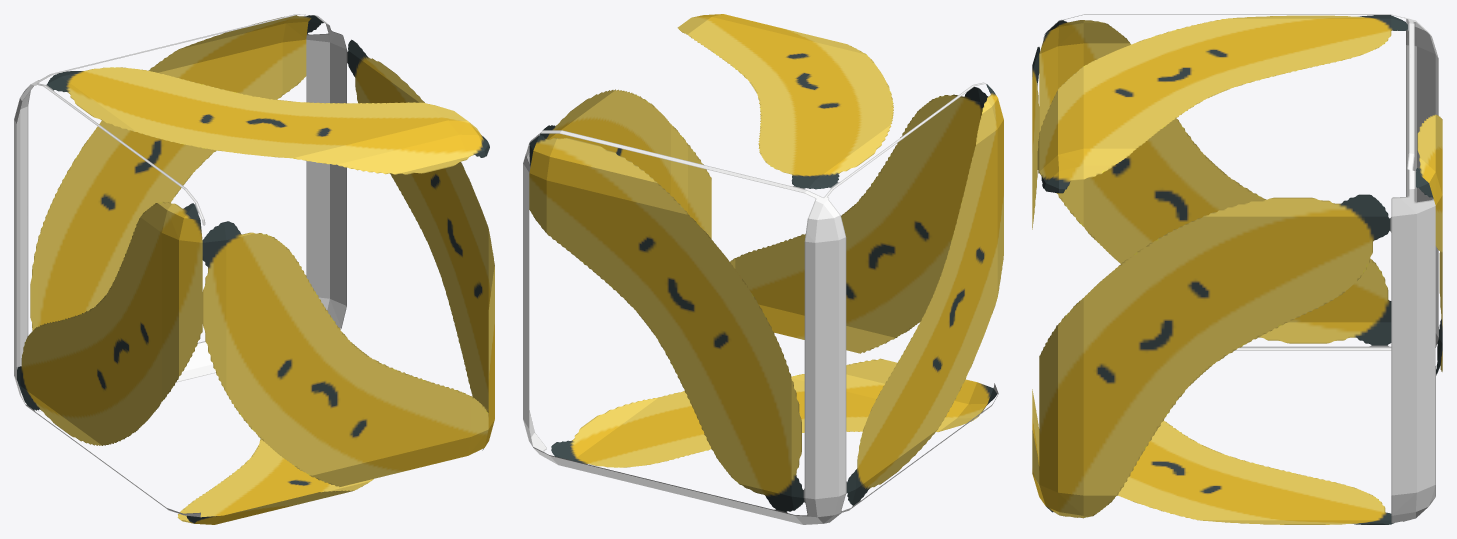
The picture shows the model from 3 angles, left to right: view 1: azimuth 30°, elevation 25°; view 2: azimuth 150°, elevation 25°; view 3: azimuth 270°, elevation 25°; orthographic projection. The views are drawn at different scales.
Parts seen in each view (by area): view 1: Cube.001_Cube.002; view 2: Cube.001_Cube.002; view 3: Cube.001_Cube.002.
Boxes of the visible parts, x1=… form: Cube.001_Cube.002: x1=14, y1=14, x2=494, y2=524; Cube.001_Cube.002: x1=523, y1=14, x2=1003, y2=524; Cube.001_Cube.002: x1=1032, y1=14, x2=1442, y2=524.
Size of the model in its own units: 1 by 1 by 1.
